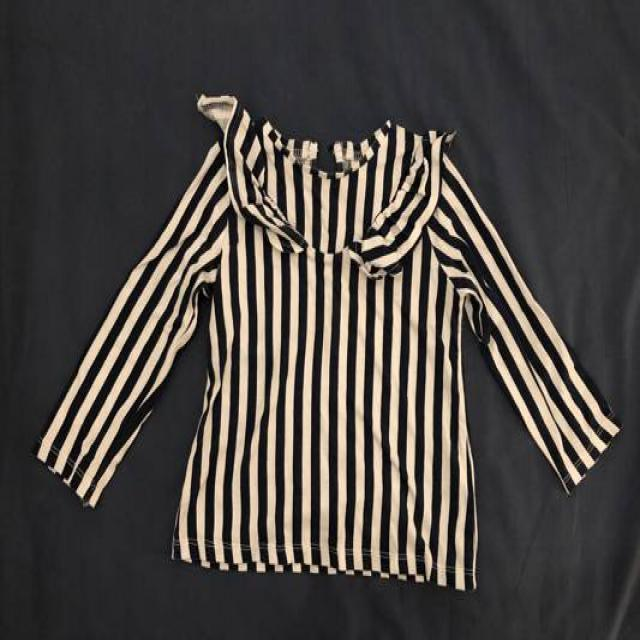Clothes -Biodegradable-: (27, 99, 627, 594)
